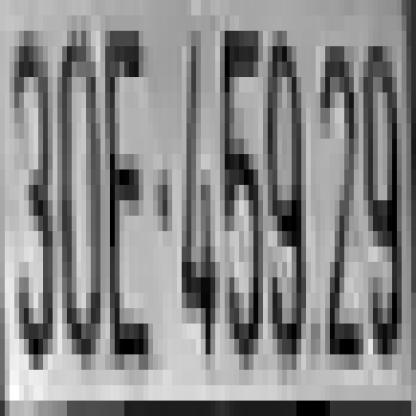0: (62, 31, 101, 339)
2: (315, 46, 354, 339)
3: (14, 31, 58, 354)
4: (182, 46, 210, 339)
5: (215, 31, 254, 339)
9: (358, 46, 397, 354), (263, 46, 301, 354)
E: (110, 31, 148, 339)
